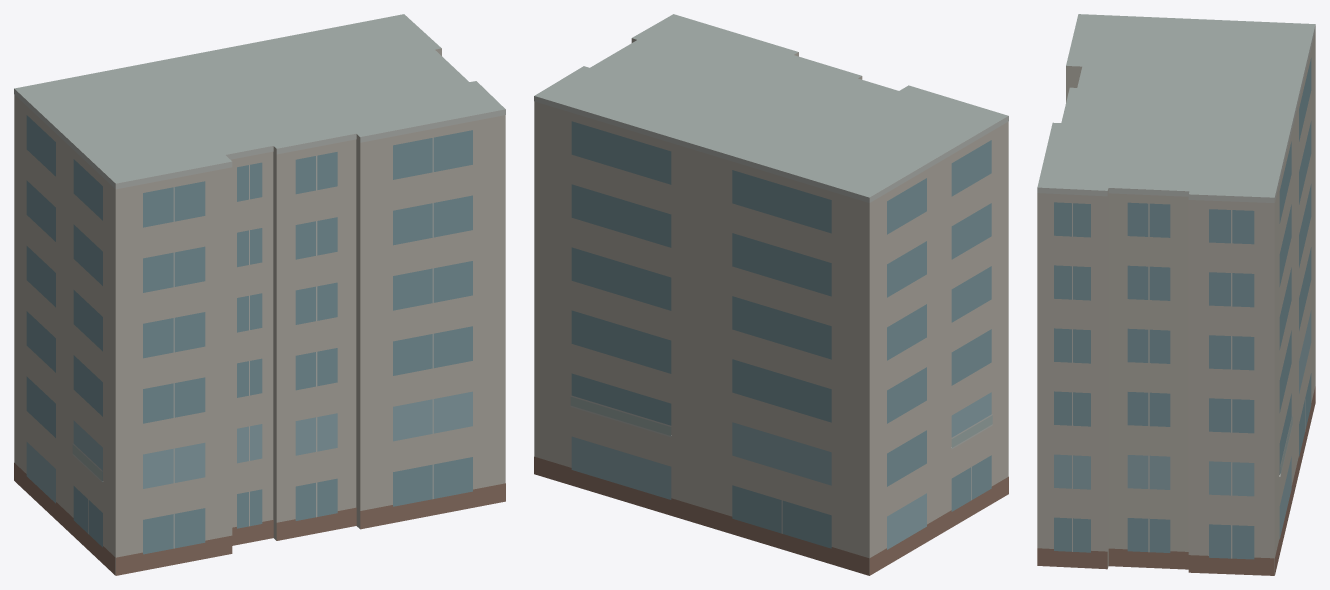
File: survey-upis-32997219.glb
3 views of the same model, side by side, from view 1: azimuth 30°, elevation 25°; view 2: azimuth 150°, elevation 25°; view 3: azimuth 270°, elevation 25° (orthographic). The views are drawn at different scales.
Parts seen in each view (by area): view 1: survey-upis-32997219.tmp; view 2: survey-upis-32997219.tmp; view 3: survey-upis-32997219.tmp.
Boxes of the visible parts, x1,y1,x2,y2 form: survey-upis-32997219.tmp: (14,14,505,575); survey-upis-32997219.tmp: (534,14,1008,575); survey-upis-32997219.tmp: (1037,14,1315,575).
Bounding box in the file's own units: 17.5 × 16.8 × 11.21.
